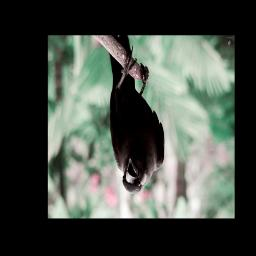Crow: (108, 36, 165, 194)
